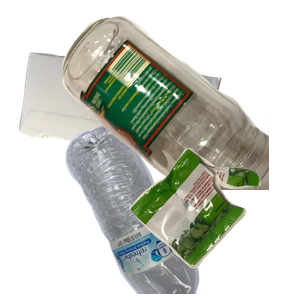glass: (60, 14, 300, 194)
paper: (17, 50, 231, 230)
plastic: (63, 120, 263, 300)
trash: (127, 146, 300, 300)
